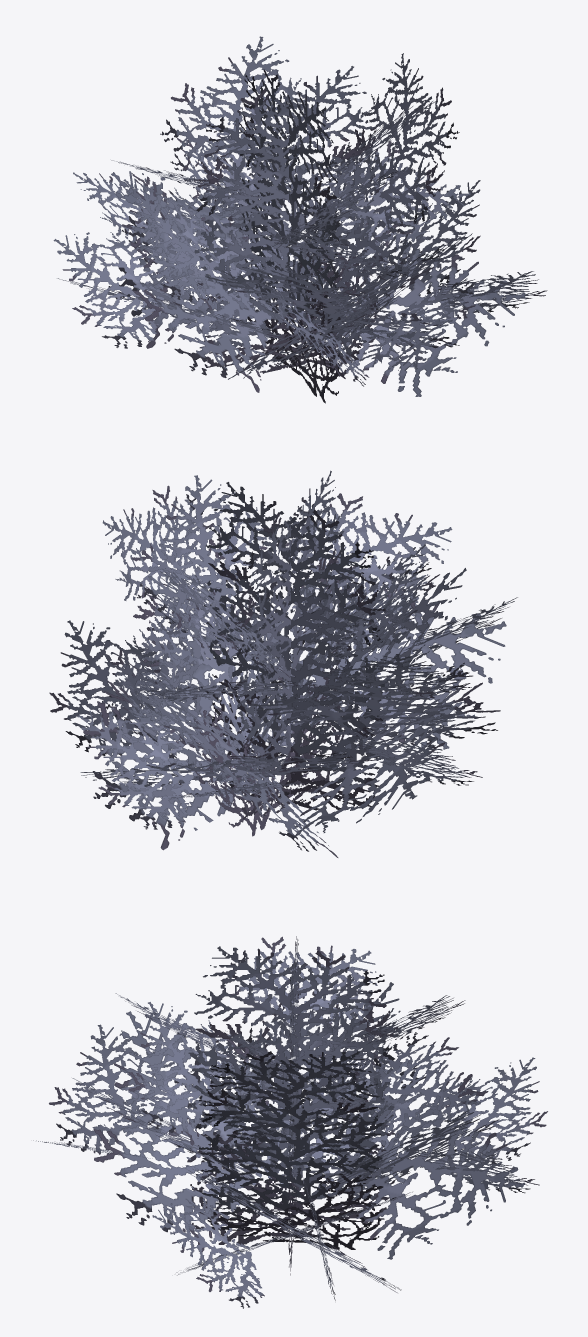
File: Ivory Bush Coral_preview_3DS_simplified.glb
The picture shows the model from 3 angles, top to bottom: view 1: azimuth 30°, elevation 25°; view 2: azimuth 150°, elevation 25°; view 3: azimuth 270°, elevation 25°; orthographic projection. The views are drawn at different scales.
Parts seen in each view (by area): view 1: Marine Park Empire model; view 2: Marine Park Empire model; view 3: Marine Park Empire model.
Part boxes in pixels (bbox=[...]): Marine Park Empire model: bbox=[53, 36, 547, 403]; Marine Park Empire model: bbox=[49, 470, 517, 857]; Marine Park Empire model: bbox=[33, 936, 547, 1308].
Size of the model in its own units: 87.23 by 57.85 by 91.1.
Materials: 1 (1 with a texture image).
